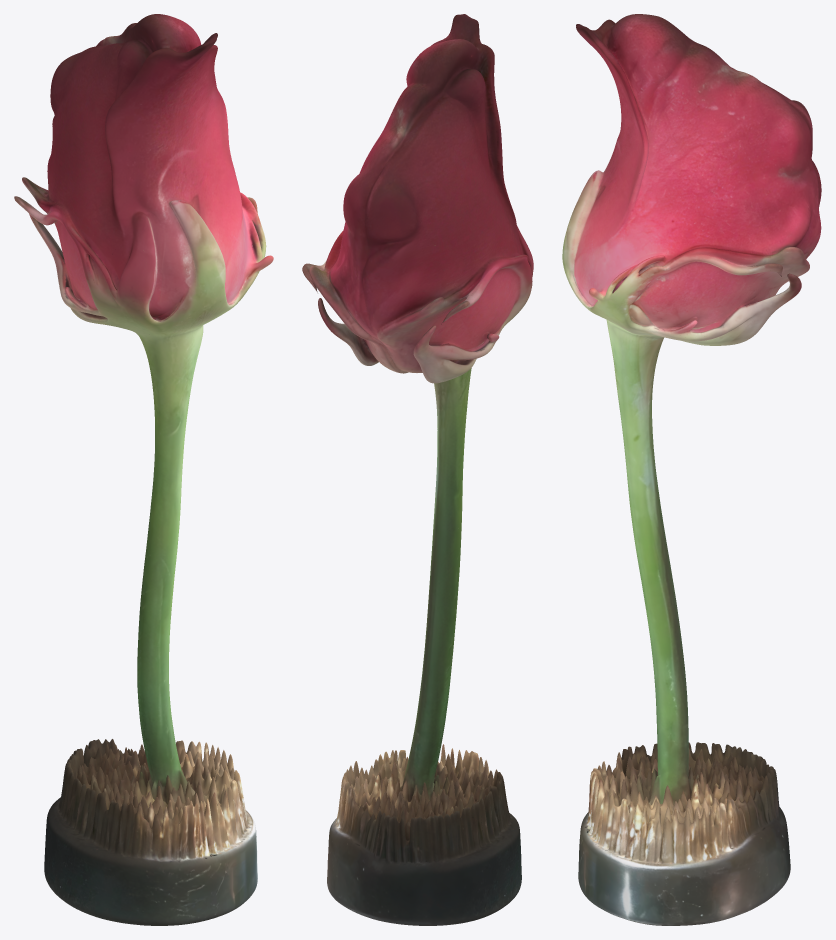
File: Rose.glb
3 views of the same model, side by side, from view 1: azimuth 30°, elevation 25°; view 2: azimuth 150°, elevation 25°; view 3: azimuth 270°, elevation 25° (orthographic). The views are drawn at different scales.
Visible parts, largest first — view 1: model; view 2: model; view 3: model.
Part boxes in pixels (x1,y1,x2,y2): model: (14,14,273,925); model: (302,14,533,925); model: (562,14,821,925).
Bounding box in the file's own units: 0.4068 × 1.9 × 0.5138.
Materials: 1 (1 with a texture image).
